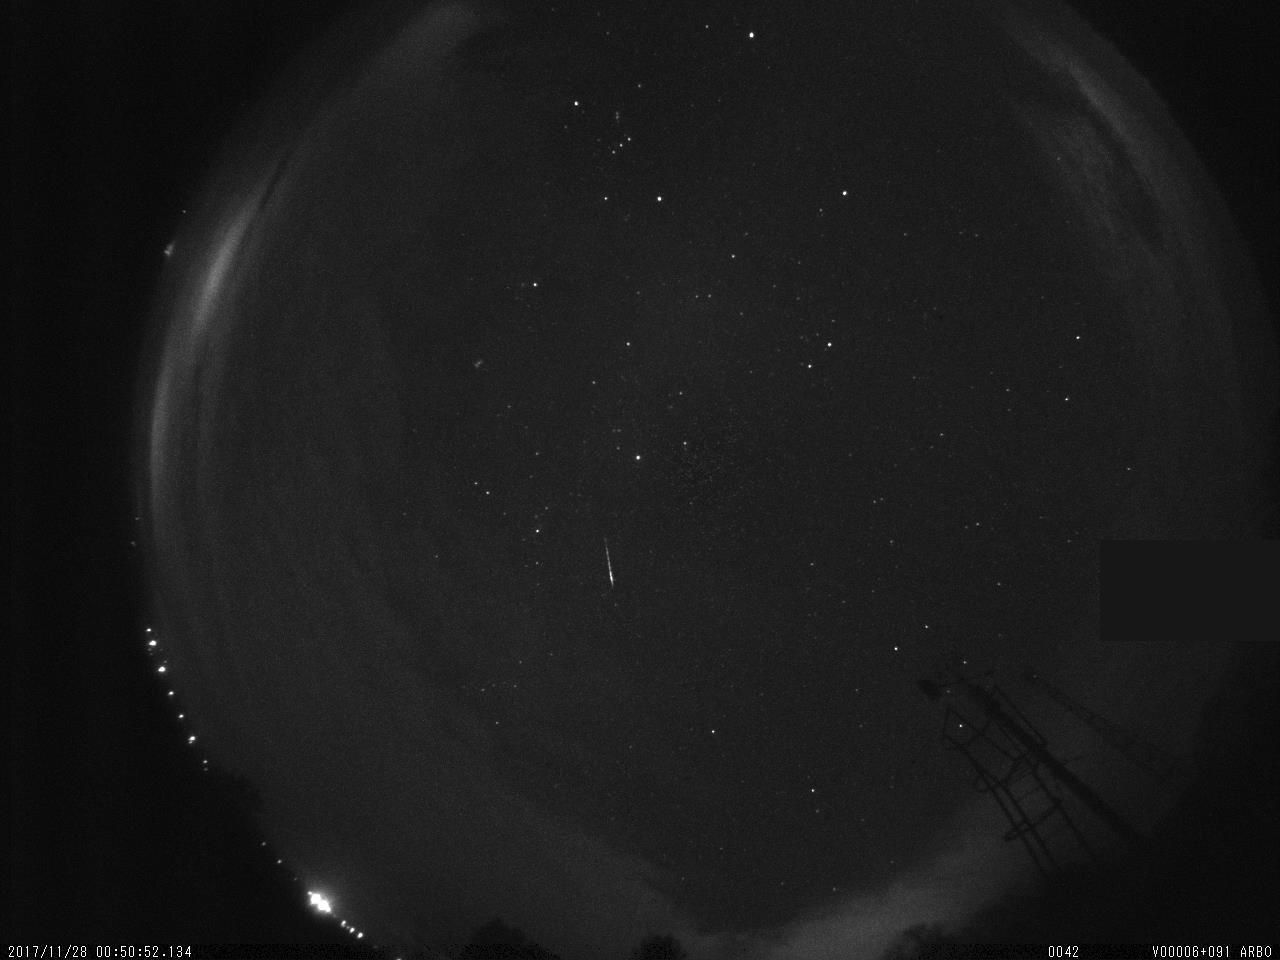meteor: (584, 527, 634, 595)
